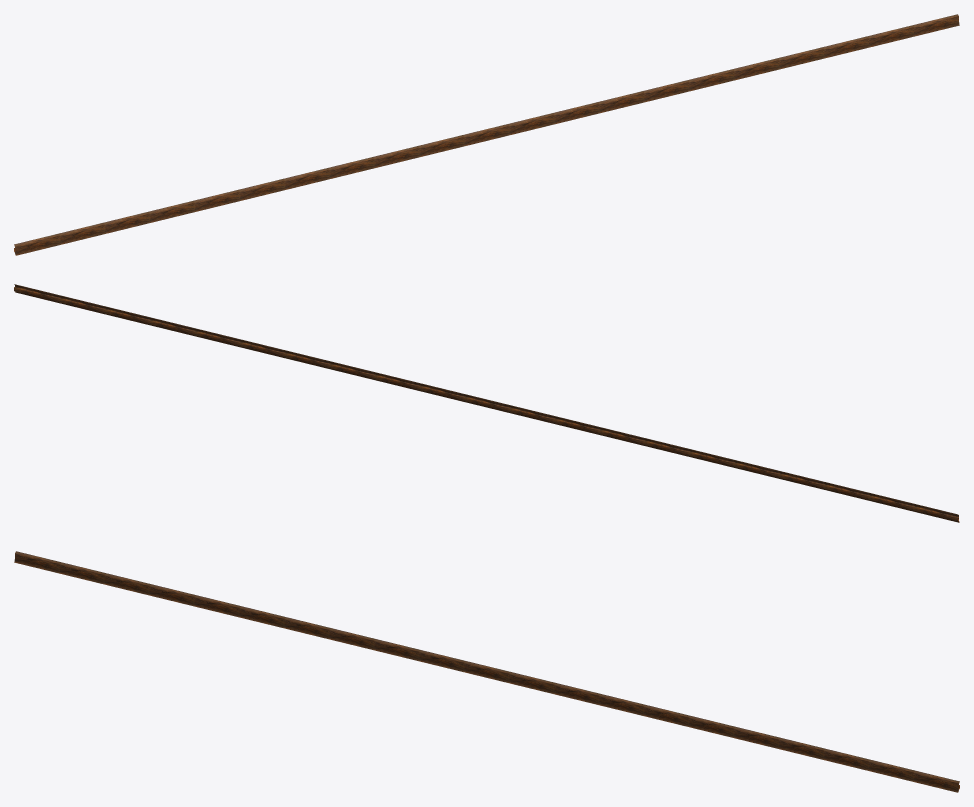
Rendered from baseboard_big.glb.
3 renders of one model, top to bottom at view 1: azimuth 30°, elevation 25°; view 2: azimuth 150°, elevation 25°; view 3: azimuth 330°, elevation 25°, orthographic.
Visible parts, largest first — view 1: Object01.015, Object01, Object01.010, Object01.016, Object01.009, Object01.011, Object01.014, Object01.008, Object01.012, Object01.013, Object01.007, Object01.004 (+9 smaller); view 2: no part large enough to name; view 3: Object01.010, Object01.004, Object01.020, Object01.005, Object01.009, Object01.003, Object01.008, Object01.011, Object01.002, Object01.006, Object01.007, Object01.001 (+9 smaller).
Boxes of the visible parts, <box> form: Object01.015: <box>688,69,734,91</box>; Object01: <box>14,233,60,255</box>; Object01.010: <box>463,124,509,145</box>; Object01.016: <box>733,58,779,80</box>; Object01.009: <box>418,135,464,156</box>; Object01.011: <box>508,113,554,134</box>; Object01.014: <box>643,80,689,101</box>; Object01.008: <box>373,146,419,167</box>; Object01.012: <box>553,102,599,123</box>; Object01.013: <box>598,91,644,112</box>; Object01.007: <box>329,157,374,178</box>; Object01.004: <box>194,189,240,211</box>; Object01.010: <box>463,661,510,682</box>; Object01.004: <box>194,595,240,617</box>; Object01.020: <box>913,770,959,792</box>; Object01.005: <box>239,606,285,628</box>; Object01.009: <box>419,650,465,671</box>; Object01.003: <box>149,584,195,606</box>; Object01.008: <box>374,639,420,660</box>; Object01.011: <box>509,672,555,693</box>; Object01.002: <box>104,573,150,595</box>; Object01.006: <box>284,617,330,638</box>; Object01.007: <box>329,628,375,649</box>; Object01.001: <box>59,562,105,584</box>.
Size of the model in its own units: 25.92 by 0.2578 by 0.0966.
Materials: 2 (1 with a texture image).
